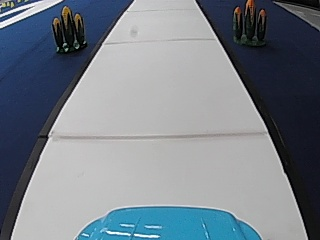corn: (50, 3, 88, 52), (230, 0, 268, 47)
